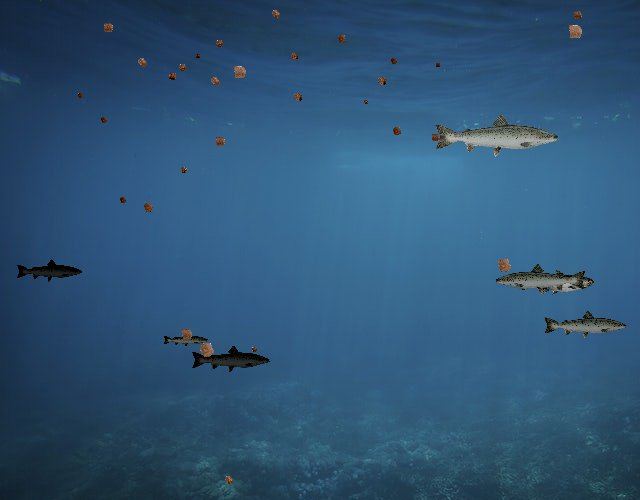Fish: (432, 112, 561, 158), (495, 262, 589, 296), (542, 309, 628, 340), (190, 345, 271, 374), (522, 270, 595, 296), (16, 258, 84, 282), (163, 331, 210, 348)
Pellet: (192, 334, 222, 364), (175, 323, 198, 346), (372, 71, 391, 90), (220, 471, 238, 489), (176, 163, 191, 178), (116, 193, 130, 207)
